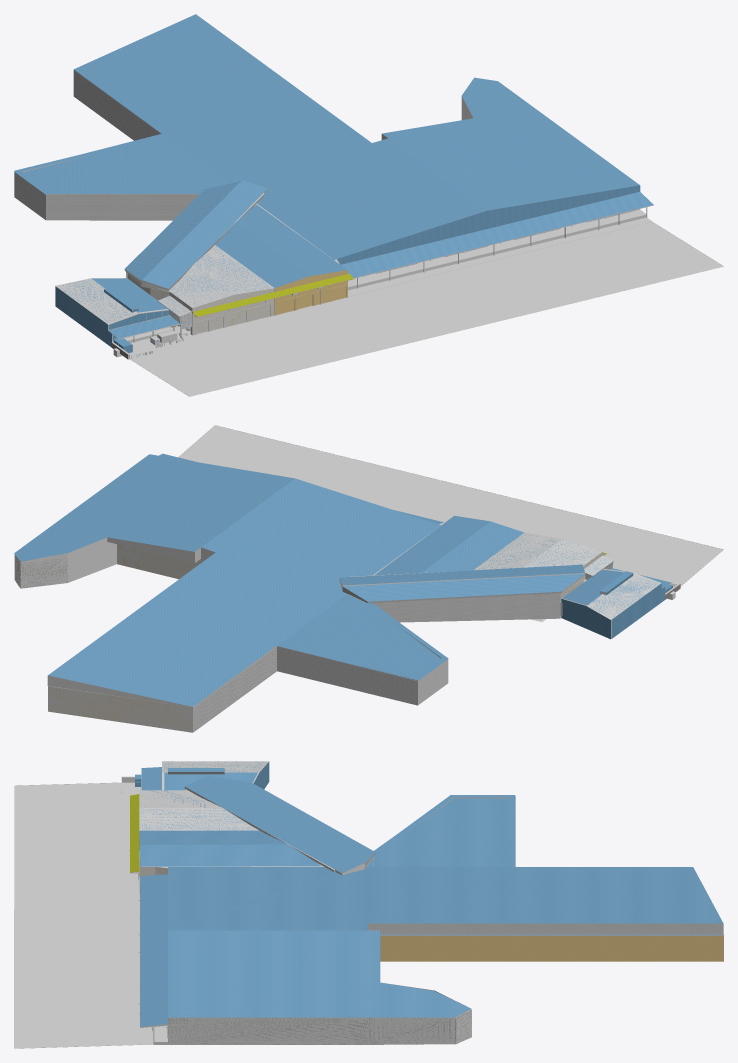
Rendered from warehouse.glb.
3 views of the same model, one above another, from view 1: azimuth 30°, elevation 25°; view 2: azimuth 150°, elevation 25°; view 3: azimuth 270°, elevation 25° (orthographic). The views are drawn at different scales.
Parts seen in each view (by area): view 1: SketchUp.009, SketchUp, SketchUp.011, SketchUp.020, SketchUp.017, SketchUp.019, SketchUp.018, SketchUp.014, SketchUp.007, SketchUp.061, SketchUp.038, SketchUp.016 (+2 smaller); view 2: SketchUp.009, SketchUp, SketchUp.011, SketchUp.020, SketchUp.012, SketchUp.018, SketchUp.019, SketchUp.014, SketchUp.017, SketchUp.013, SketchUp.010, SketchUp.040 (+2 smaller); view 3: SketchUp.009, SketchUp, SketchUp.012, SketchUp.010, SketchUp.020, SketchUp.055, SketchUp.017, SketchUp.019, SketchUp.018, SketchUp.014, SketchUp.016, SketchUp.038 (+1 smaller).
Part boxes in pixels (bbox=[...]): SketchUp.009: bbox=[14, 14, 653, 280]; SketchUp: bbox=[14, 70, 723, 396]; SketchUp.011: bbox=[14, 71, 198, 220]; SketchUp.020: bbox=[215, 204, 347, 287]; SketchUp.017: bbox=[142, 180, 267, 288]; SketchUp.019: bbox=[170, 245, 274, 307]; SketchUp.018: bbox=[125, 181, 241, 280]; SketchUp.014: bbox=[56, 278, 167, 323]; SketchUp.007: bbox=[127, 274, 274, 335]; SketchUp.061: bbox=[55, 286, 111, 347]; SketchUp.038: bbox=[193, 273, 353, 316]; SketchUp.016: bbox=[14, 150, 199, 193]; SketchUp.009: bbox=[14, 453, 447, 706]; SketchUp: bbox=[15, 425, 723, 708]; SketchUp.011: bbox=[193, 593, 560, 732]; SketchUp.020: bbox=[374, 515, 523, 575]; SketchUp.012: bbox=[48, 686, 192, 732]; SketchUp.018: bbox=[343, 574, 584, 601]; SketchUp.019: bbox=[473, 532, 602, 570]; SketchUp.014: bbox=[562, 569, 659, 619]; SketchUp.017: bbox=[339, 564, 584, 585]; SketchUp.013: bbox=[117, 544, 204, 579]; SketchUp.010: bbox=[14, 555, 67, 588]; SketchUp.040: bbox=[561, 599, 610, 639]; SketchUp.009: bbox=[140, 795, 723, 1027]; SketchUp: bbox=[14, 761, 723, 1048]; SketchUp.012: bbox=[380, 935, 723, 961]; SketchUp.010: bbox=[168, 1010, 471, 1044]; SketchUp.020: bbox=[139, 830, 321, 866]; SketchUp.055: bbox=[368, 923, 723, 934]; SketchUp.017: bbox=[185, 775, 364, 873]; SketchUp.019: bbox=[139, 790, 257, 830]; SketchUp.018: bbox=[210, 776, 375, 862]; SketchUp.014: bbox=[164, 761, 267, 790]; SketchUp.016: bbox=[367, 795, 723, 934]; SketchUp.038: bbox=[130, 794, 139, 872].
Size of the model in its own units: 189 by 13.96 by 212.
23 materials, 9 textured.
